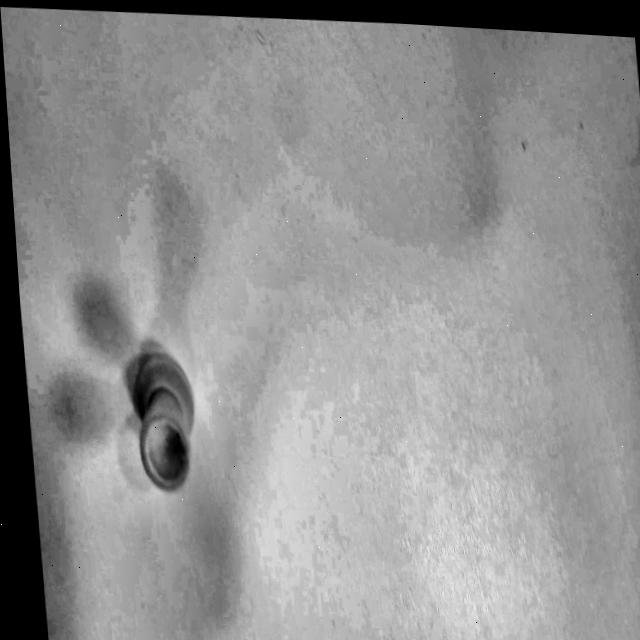white-rook: (94, 312, 220, 525)
